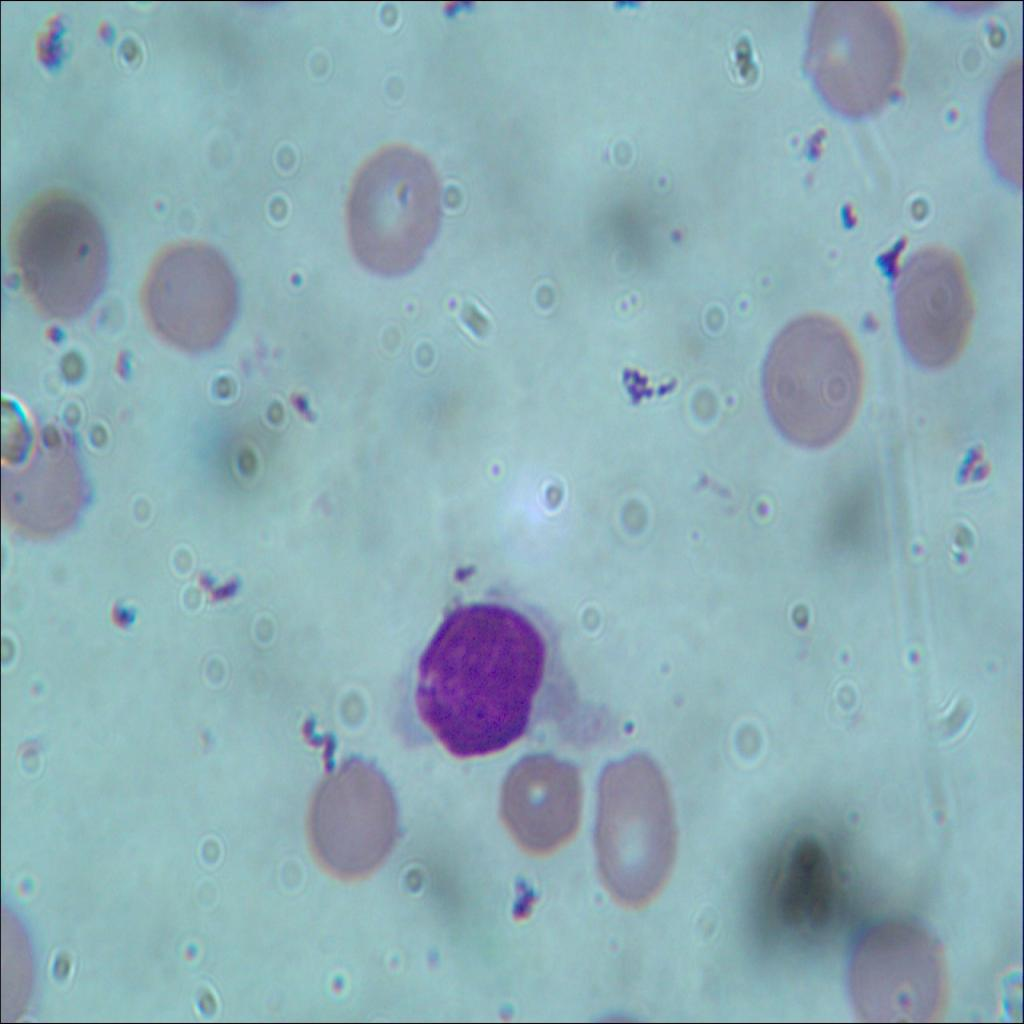Eritrosit: (750, 312, 869, 454), (338, 145, 448, 281), (594, 739, 676, 908), (298, 752, 406, 879), (8, 186, 110, 314), (806, 5, 910, 125), (0, 417, 96, 545), (844, 915, 951, 1023), (135, 245, 238, 354), (882, 254, 978, 364), (500, 746, 578, 865)
Limfosit: (406, 591, 549, 768)
Platelet: (795, 118, 841, 182), (29, 4, 71, 73), (101, 586, 144, 644), (501, 875, 543, 928), (746, 484, 783, 532), (108, 339, 142, 382), (284, 378, 315, 421), (98, 6, 126, 52), (840, 198, 866, 246), (935, 97, 968, 131), (280, 255, 306, 295), (43, 314, 71, 348)
